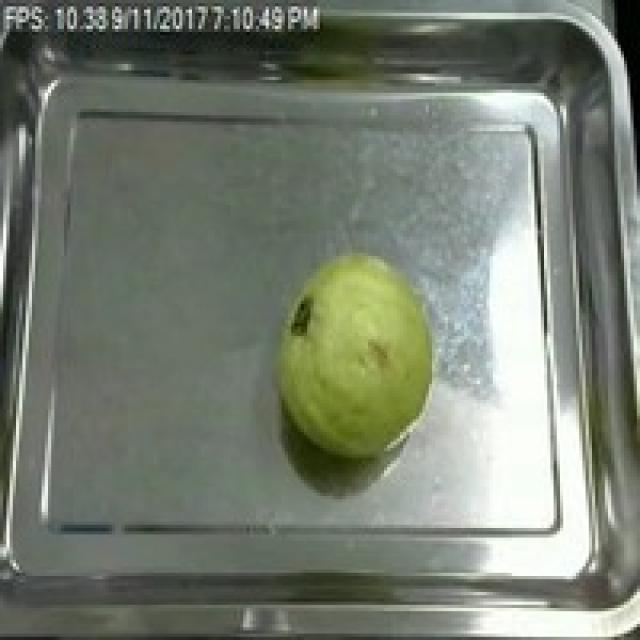Fruit: (262, 243, 445, 467)
